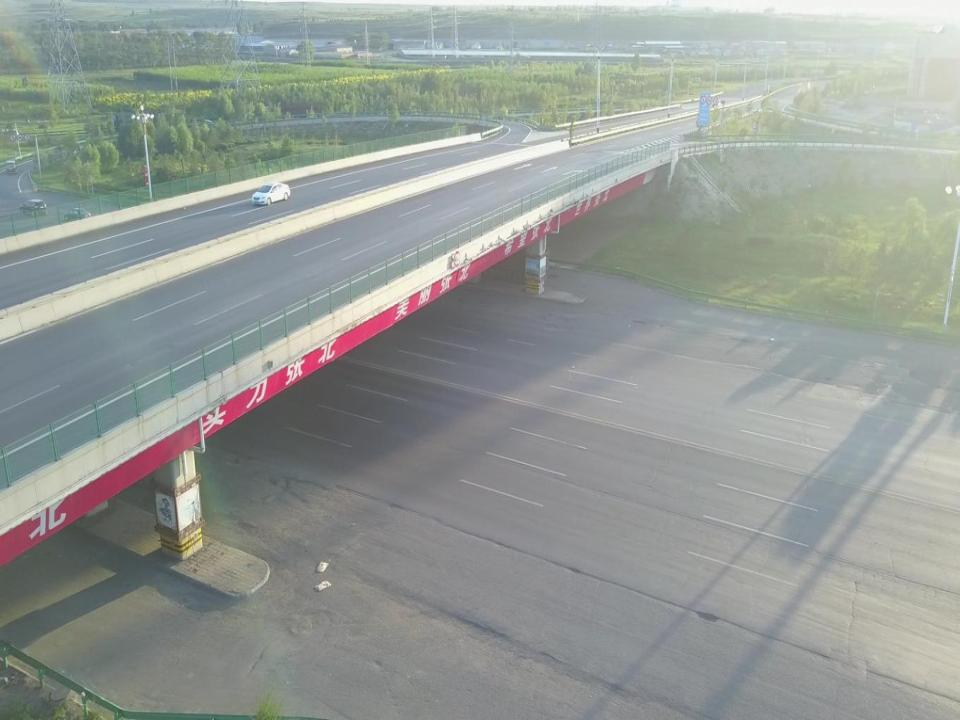car: (250, 177, 291, 211)
